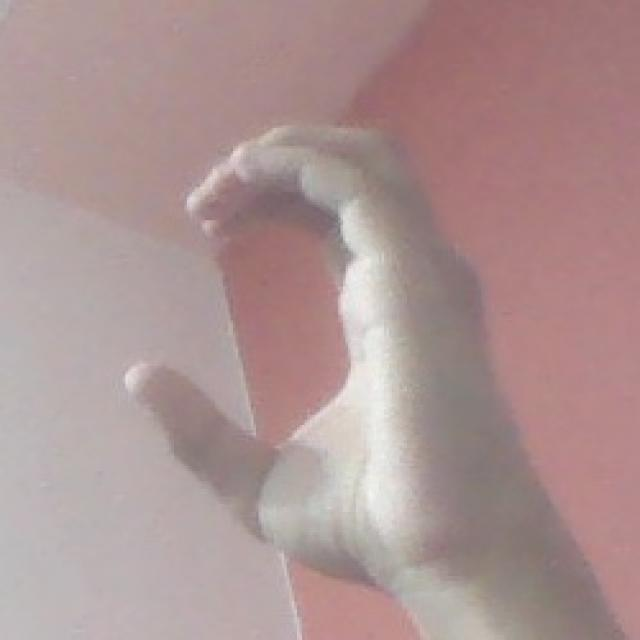Alphabet-C: (120, 114, 516, 588)
